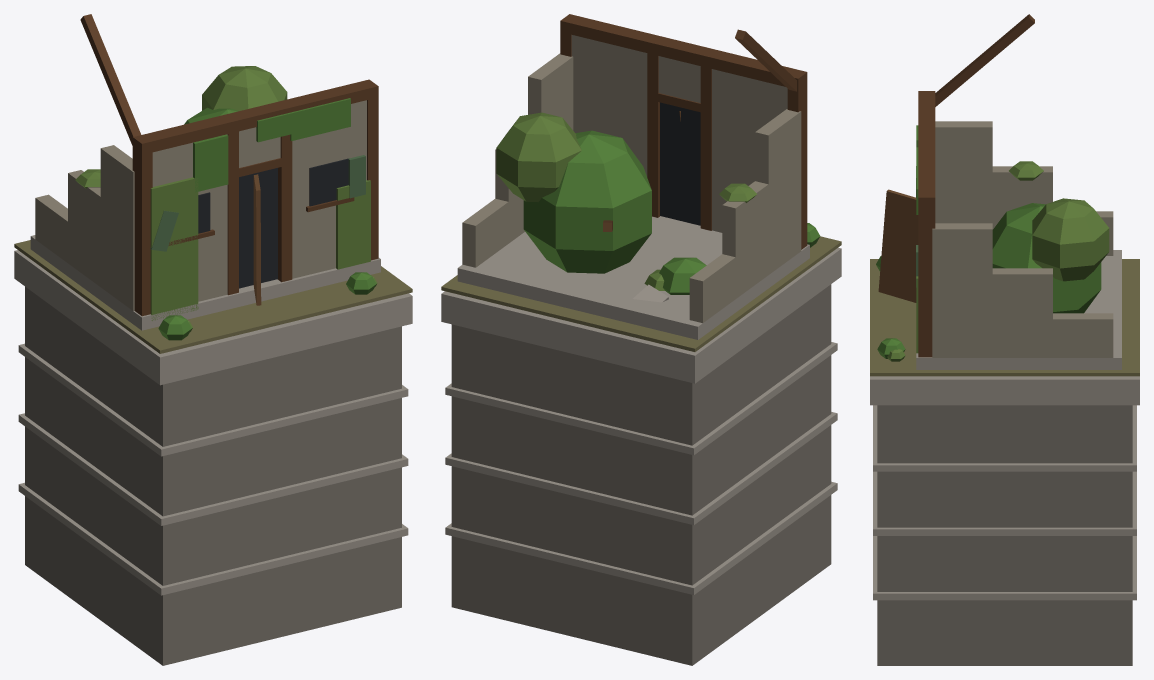
The model's file is decor_overgrown_house.glb.
3 renders of one model, left to right at view 1: azimuth 30°, elevation 25°; view 2: azimuth 150°, elevation 25°; view 3: azimuth 270°, elevation 25°, orthographic. The views are drawn at different scales.
Visible parts, largest first — view 1: decor_overgrown_house; view 2: decor_overgrown_house; view 3: decor_overgrown_house.
Part boxes in pixels (left/top/right/bottom): decor_overgrown_house: left=14, top=14, right=412, bottom=665; decor_overgrown_house: left=441, top=14, right=841, bottom=665; decor_overgrown_house: left=870, top=14, right=1139, bottom=665.
Size of the model in its own units: 3.8 by 8.48 by 3.8.
